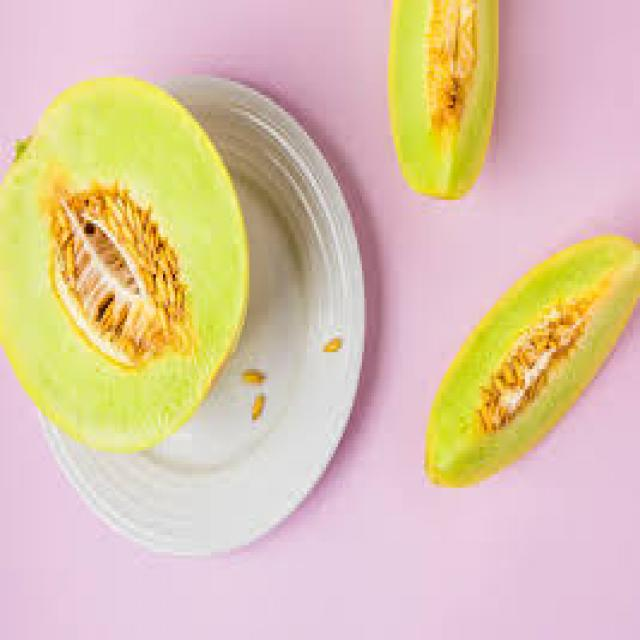melon: (2, 71, 254, 467), (424, 233, 640, 488), (384, 3, 508, 206)
